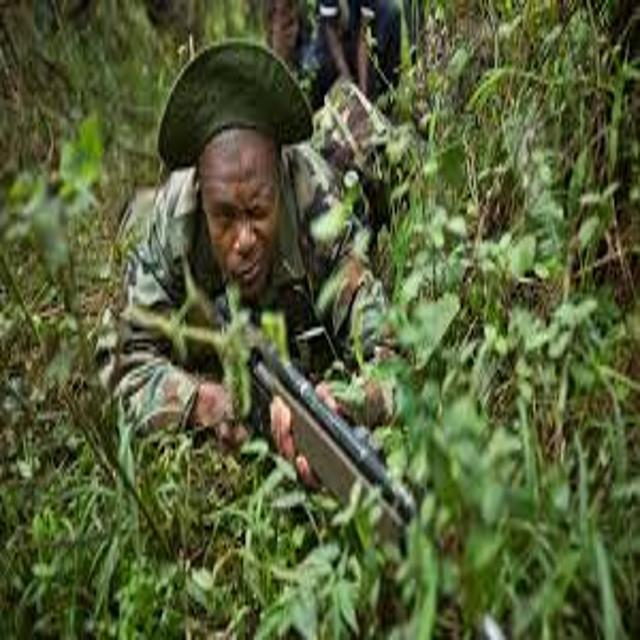gun: (195, 296, 460, 567)
poacher: (53, 20, 449, 557)
